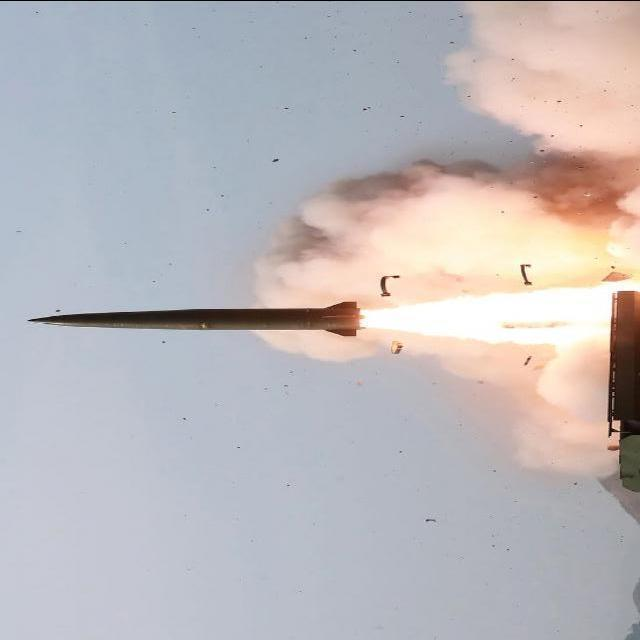missile: (31, 307, 366, 341)
